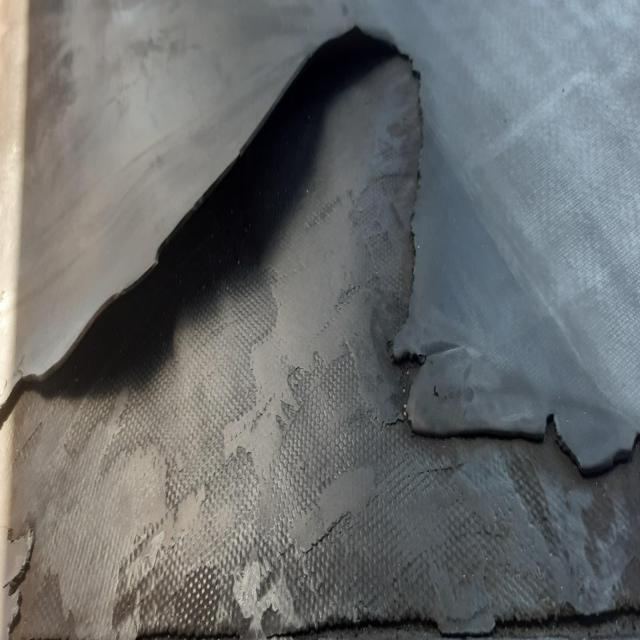Tear: (0, 19, 640, 477)
